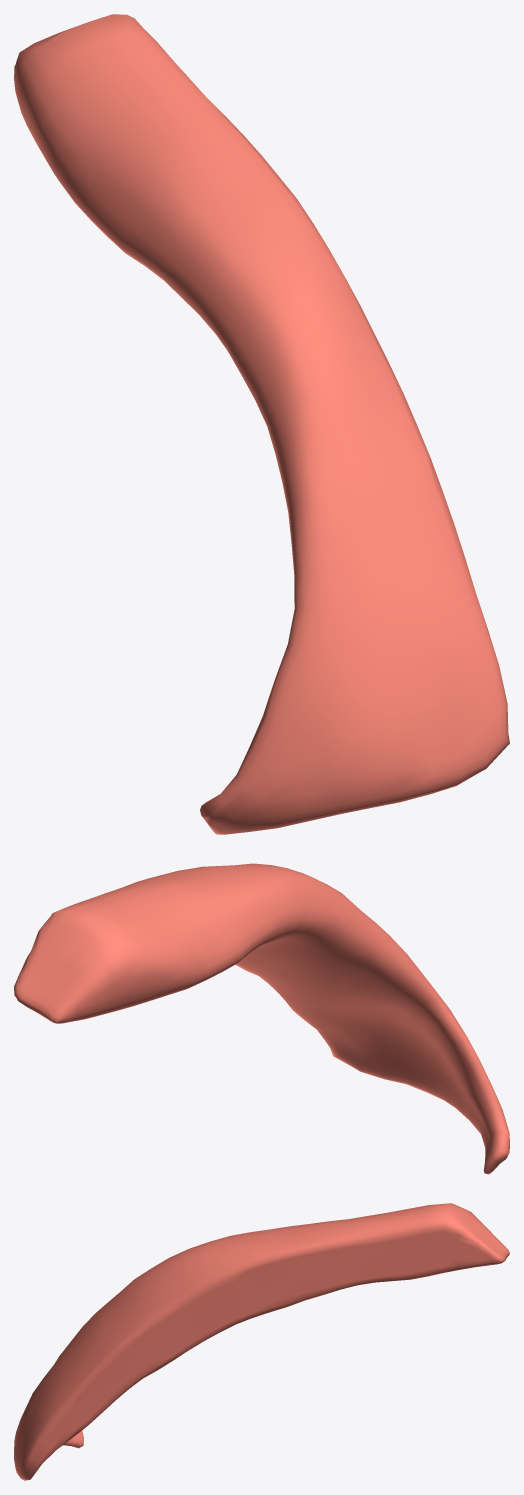
Rendered from M_deep_pectoral.glb.
3 renders of one model, top to bottom at view 1: azimuth 30°, elevation 25°; view 2: azimuth 150°, elevation 25°; view 3: azimuth 270°, elevation 25°, orthographic. The views are drawn at different scales.
Parts seen in each view (by area): view 1: M_deep_pectoral.obj; view 2: M_deep_pectoral.obj; view 3: M_deep_pectoral.obj.
Part boxes in pixels (x1=…): M_deep_pectoral.obj: x1=14, y1=14, x2=509, y2=834; M_deep_pectoral.obj: x1=14, y1=863, x2=509, y2=1174; M_deep_pectoral.obj: x1=14, y1=1203, x2=509, y2=1480.
Bounding box in the file's own units: 0.00156 × 0.00292 × 0.00442.
